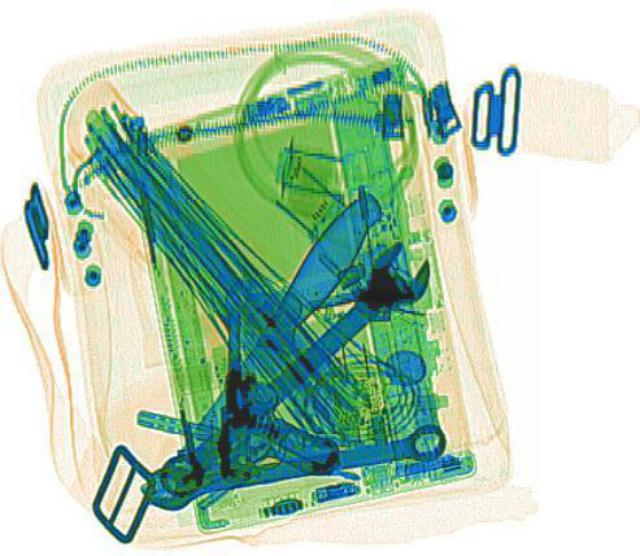Gun: (212, 289, 346, 476)
Knife: (172, 185, 392, 458)
Wrench: (145, 237, 445, 507), (136, 420, 452, 513)
